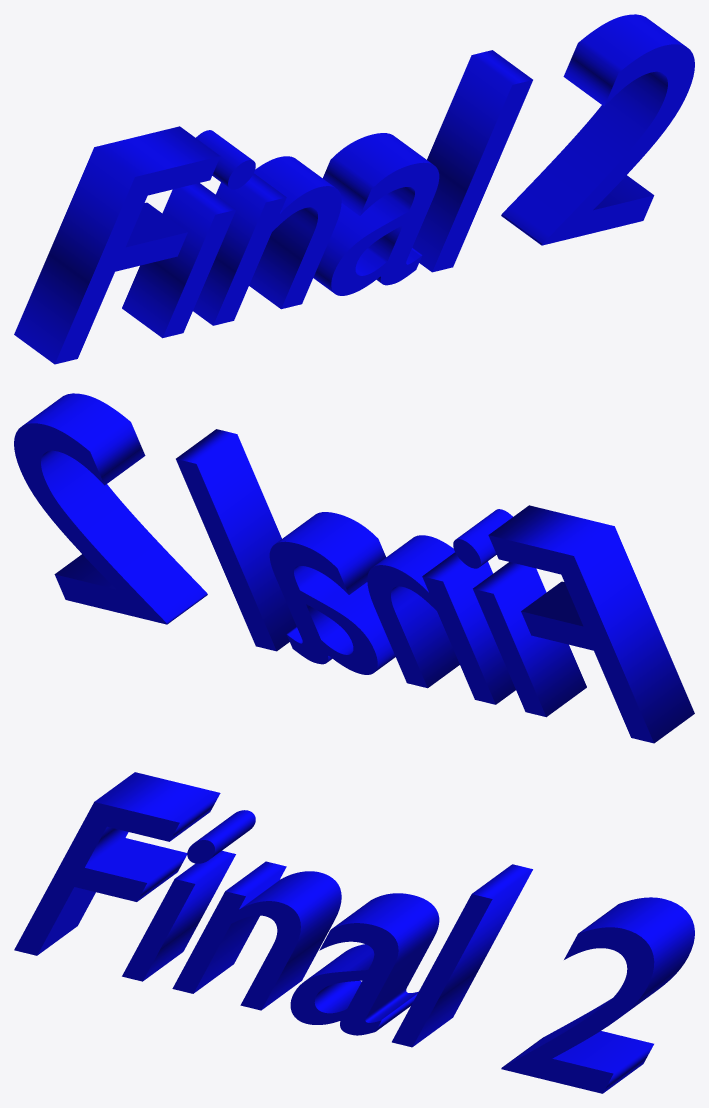
3 renders of one model, top to bottom at view 1: azimuth 30°, elevation 25°; view 2: azimuth 150°, elevation 25°; view 3: azimuth 330°, elevation 25°, orthographic.
Parts seen in each view (by area): view 1: Text; view 2: Text; view 3: Text.
Boxes of the visible parts, <box> form: Text: <box>14,14,694,364</box>; Text: <box>14,393,694,743</box>; Text: <box>14,772,694,1093</box>.
Bounding box in the file's own units: 4.08 × 1.05 × 0.45.
